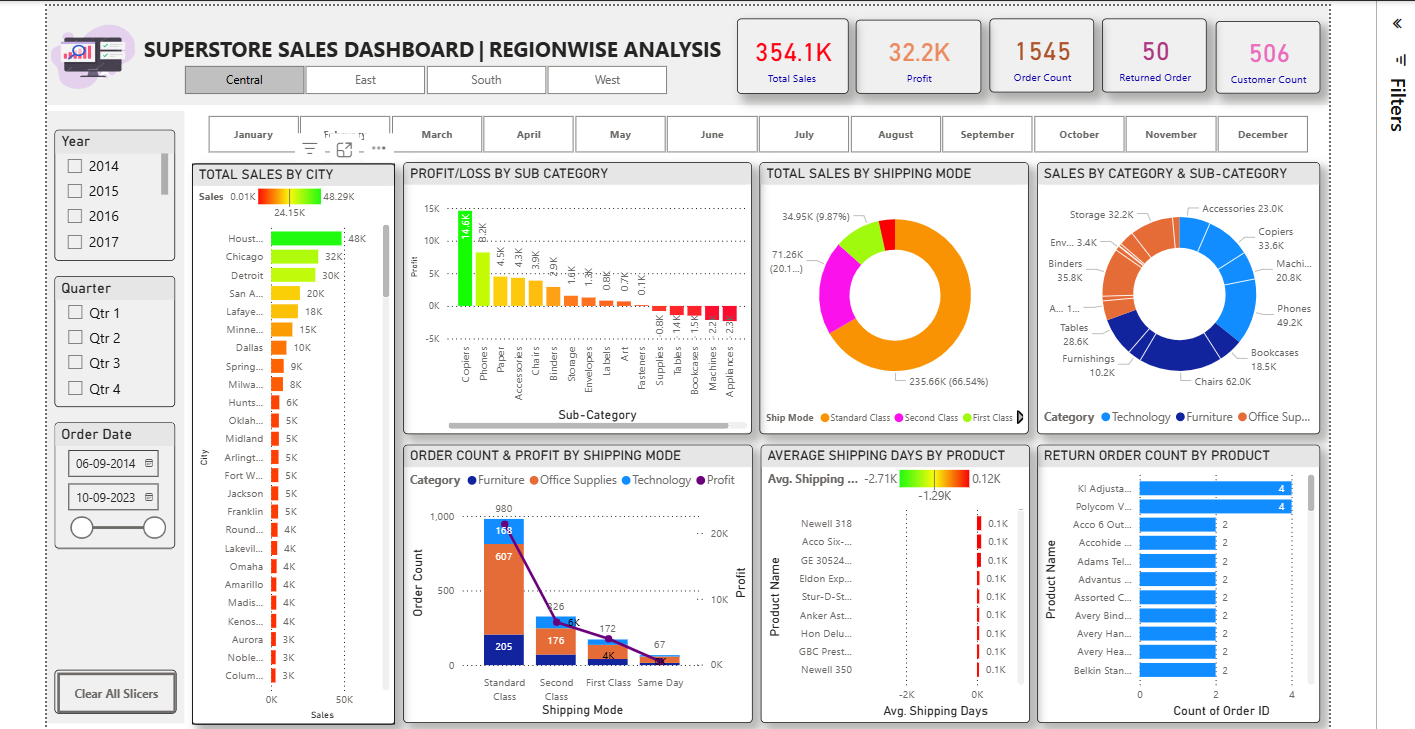

The page's visual inventory and layout, read from the dashboard file:
{"tool":"powerbi","page":{"name":"Regionwise Analysis","canvas":[1470,830],"ordinal":1},"visuals":[{"type":"shape","box":[0,0,1470.3,113.5],"z":0},{"type":"textbox","box":[0,120.2,157.6,702.4],"z":1000},{"type":"actionButton","box":[8,761.2,140.2,50.7],"z":13000},{"type":"slicer","fields":{"Values":["Month Table.Month Name"]},"box":[158.9,118.9,1311.4,56.1],"z":14000},{"type":"textbox","box":[105.5,29.4,681.1,56.1],"z":15000},{"type":"clusteredBarChart","title":"TOTAL SALES BY CITY","box":[166,178.9,232.4,643.7],"z":20000},{"type":"image","box":[0,0,105.5,113.5],"z":21000},{"type":"donutChart","title":"TOTAL SALES BY SHIPPING MODE","fields":{"Category":["OrderRLS.Ship Mode"],"Y":["Sum(OrderRLS.Sales)"]},"box":[817.9,179.7,308.9,312],"z":21002},{"type":"donutChart","title":"SALES BY CATEGORY & SUB-CATEGORY","fields":{"Series":["OrderRLS.Sub-Category"],"Y":["Sum(OrderRLS.Sales)"],"Category":["OrderRLS.Category"]},"box":[1136.2,179.7,324.6,312],"z":21003},{"type":"columnChart","title":"PROFIT/LOSS BY SUB CATEGORY","fields":{"Y":["Sum(OrderRLS.Profit)"],"Category":["OrderRLS.Sub-Category"]},"box":[408.2,179.7,400.3,312],"z":21004},{"type":"clusteredBarChart","title":"RETURN ORDER COUNT BY PRODUCT","fields":{"Category":["OrderRLS.Product Name"],"Y":["CountNonNull(Returns.Order ID)"]},"box":[1136.4,503.4,324.5,319.2],"z":21005},{"type":"lineStackedColumnComboChart","title":"ORDER COUNT & PROFIT BY SHIPPING MODE","fields":{"Category":["OrderRLS.Ship Mode"],"Y2":["Sum(OrderRLS.Profit)"],"Y":["CountNonNull(OrderRLS.Ship Mode)"],"Series":["OrderRLS.Category"]},"box":[408,503.4,400.6,319.2],"z":21006},{"type":"clusteredBarChart","title":"AVERAGE SHIPPING DAYS BY PRODUCT","fields":{"Category":["OrderRLS.Product Name"],"Y":["Avg(OrderRLS.Shipped Days)"]},"box":[818.3,503.4,308.5,319.2],"z":21007},{"type":"clusteredBarChart","title":"TOTAL SALES BY CITY","fields":{"Category":["OrderRLS.City"],"Y":["Sum(OrderRLS.Sales)"]},"box":[166.3,180.4,232.6,644.2],"z":21008},{"type":"card","fields":{"Values":["Sum(Orders.Profit)"]},"box":[928,15.5,143.7,84.6],"z":21009},{"type":"card","fields":{"Values":["Sum(Orders.Sales)"]},"box":[791.1,14.2,127.6,86.7],"z":21010},{"type":"card","fields":{"Values":["CountNonNull(Orders.Order ID)"]},"box":[1081,15,120,85],"z":21011},{"type":"card","fields":{"Values":["Count(Orders.Customer ID)"]},"box":[1340.1,16.9,119.8,83.1],"z":21012},{"type":"slicer","title":"Year","fields":{"Values":["Orders.Order Date.Variation.Date Hierarchy.Year"]},"box":[9.2,142.5,138.6,150.3],"z":21013},{"type":"slicer","title":"Quarter","fields":{"Values":["Orders.Order Date.Variation.Date Hierarchy.Quarter"]},"box":[9.2,309.8,138.6,150.3],"z":21014},{"type":"slicer","title":"Order Date ","fields":{"Values":["Orders.Order Date"]},"box":[9.2,477.2,138.6,145.1],"z":21015},{"type":"card","fields":{"Values":["CountNonNull(Returns.Order ID)"]},"box":[1210.3,15,120,85],"z":21016},{"type":"slicer","fields":{"Values":["People.Region"]},"box":[132.5,62,603.3,46.5],"z":21017}]}

Visuals, with their boxes in screenshot pixels (x1, y1, x2, y2):
shape: box=[48, 0, 1323, 98]
textbox: box=[48, 104, 185, 713]
actionButton: box=[55, 660, 176, 704]
slicer - Month Table.Month Name: box=[186, 103, 1323, 152]
textbox: box=[139, 25, 730, 74]
"TOTAL SALES BY CITY" clusteredBarChart: box=[192, 155, 393, 713]
image: box=[48, 0, 139, 98]
"TOTAL SALES BY SHIPPING MODE" donutChart: box=[757, 156, 1025, 426]
"SALES BY CATEGORY & SUB-CATEGORY" donutChart: box=[1033, 156, 1314, 426]
"PROFIT/LOSS BY SUB CATEGORY" columnChart: box=[402, 156, 749, 426]
"RETURN ORDER COUNT BY PRODUCT" clusteredBarChart: box=[1033, 436, 1314, 713]
"ORDER COUNT & PROFIT BY SHIPPING MODE" lineStackedColumnComboChart: box=[402, 436, 749, 713]
"AVERAGE SHIPPING DAYS BY PRODUCT" clusteredBarChart: box=[757, 436, 1025, 713]
"TOTAL SALES BY CITY" clusteredBarChart: box=[192, 156, 394, 715]
card - Sum(Orders.Profit): box=[852, 13, 977, 87]
card - Sum(Orders.Sales): box=[734, 12, 844, 87]
card - CountNonNull(Orders.Order ID): box=[985, 13, 1089, 87]
card - Count(Orders.Customer ID): box=[1210, 15, 1313, 87]
"Year" slicer: box=[56, 124, 176, 254]
"Quarter" slicer: box=[56, 269, 176, 399]
"Order Date " slicer: box=[56, 414, 176, 539]
card - CountNonNull(Returns.Order ID): box=[1097, 13, 1201, 87]
slicer - People.Region: box=[163, 54, 686, 94]
